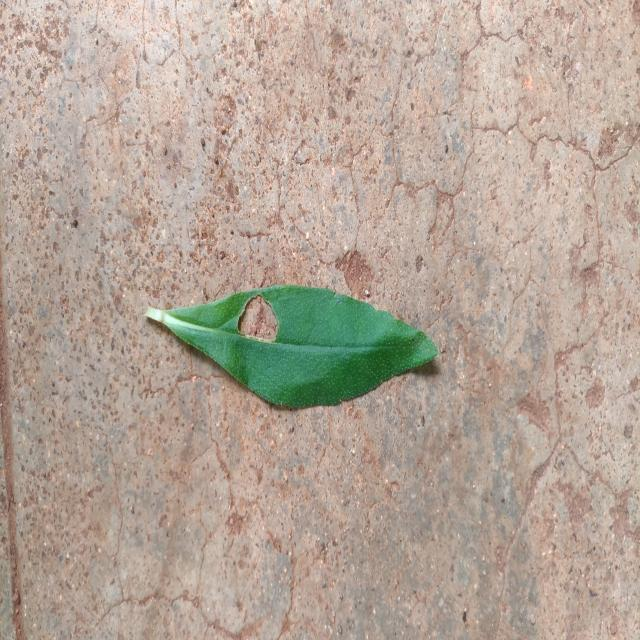defectedbringaraja: (146, 284, 438, 407)
